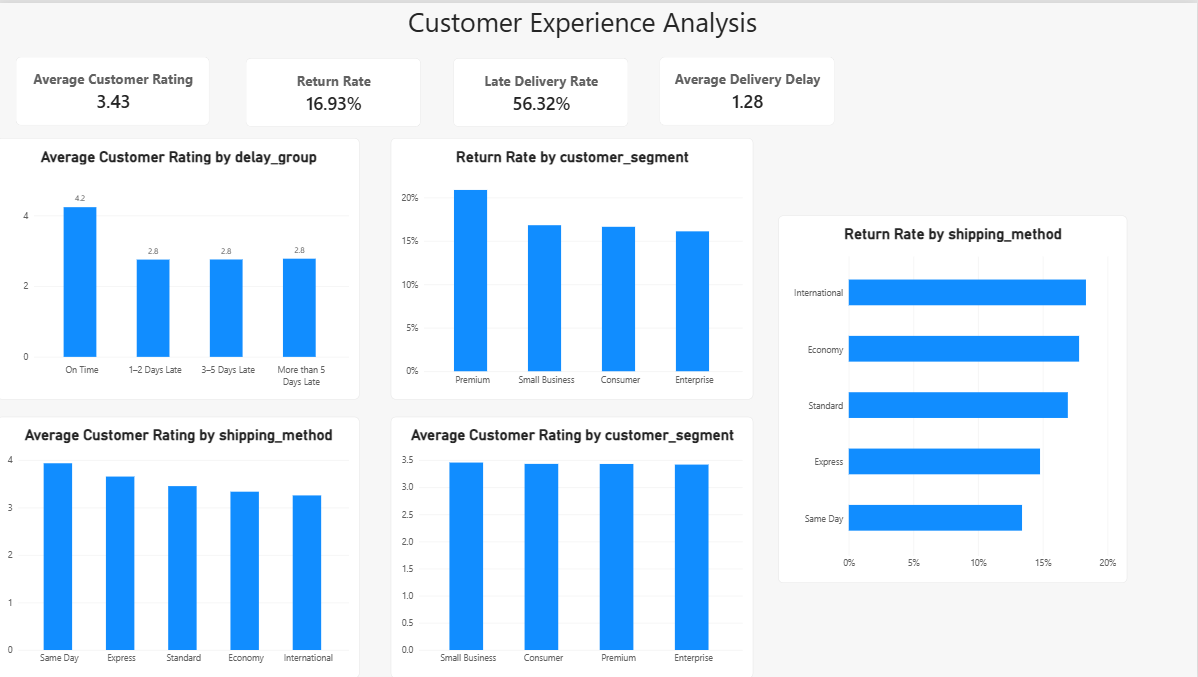

Layout of this report page (visuals, bound fields, positions):
{"tool":"powerbi","page":{"name":"Customer Experience Analysis","canvas":[1920,1080],"ordinal":2},"visuals":[{"type":"cardVisual","fields":{"Data":["ecommerce_delivery_powerbi.Average Customer Rating"]},"box":[30,86,310,110],"z":0},{"type":"cardVisual","fields":{"Data":["ecommerce_delivery_powerbi.Return Rate"]},"box":[398,88,280,110],"z":1},{"type":"cardVisual","fields":{"Data":["ecommerce_delivery_powerbi.Late Delivery Rate"]},"box":[730,88,280,110],"z":2},{"type":"cardVisual","fields":{"Data":["ecommerce_delivery_powerbi.Average Delivery Delay"]},"box":[1060,86,280,110],"z":3},{"type":"clusteredColumnChart","fields":{"Category":["ecommerce_delivery_powerbi.delay_group"],"Y":["ecommerce_delivery_powerbi.Average Customer Rating"]},"box":[0,216,580,418],"z":4},{"type":"clusteredColumnChart","fields":{"Category":["ecommerce_delivery_powerbi.shipping_method"],"Y":["ecommerce_delivery_powerbi.Average Customer Rating"]},"box":[0,662,580,418],"z":5},{"type":"clusteredColumnChart","fields":{"Category":["ecommerce_delivery_powerbi.customer_segment"],"Y":["ecommerce_delivery_powerbi.Average Customer Rating"]},"box":[630,662,580,418],"z":6},{"type":"clusteredColumnChart","fields":{"Category":["ecommerce_delivery_powerbi.customer_segment"],"Y":["ecommerce_delivery_powerbi.Return Rate"]},"box":[630,216,580,418],"z":7},{"type":"clusteredBarChart","fields":{"Category":["ecommerce_delivery_powerbi.shipping_method"],"Y":["ecommerce_delivery_powerbi.Return Rate"]},"box":[1250,340,558,588],"z":8},{"type":"textbox","box":[0,0,1874,72],"z":9}]}

Visuals, with their boxes in screenshot pixels (x1, y1, x2, y2), scaled from the page's 1920x1080 canvas onto the 1198x677 screenshot:
cardVisual - ecommerce_delivery_powerbi.Average Customer Rating: region(19, 54, 212, 123)
cardVisual - ecommerce_delivery_powerbi.Return Rate: region(248, 55, 423, 124)
cardVisual - ecommerce_delivery_powerbi.Late Delivery Rate: region(455, 55, 630, 124)
cardVisual - ecommerce_delivery_powerbi.Average Delivery Delay: region(661, 54, 836, 123)
clusteredColumnChart - ecommerce_delivery_powerbi.delay_group x ecommerce_delivery_powerbi.Average Customer Rating: region(0, 135, 362, 397)
clusteredColumnChart - ecommerce_delivery_powerbi.shipping_method x ecommerce_delivery_powerbi.Average Customer Rating: region(0, 415, 362, 676)
clusteredColumnChart - ecommerce_delivery_powerbi.customer_segment x ecommerce_delivery_powerbi.Average Customer Rating: region(393, 415, 755, 676)
clusteredColumnChart - ecommerce_delivery_powerbi.customer_segment x ecommerce_delivery_powerbi.Return Rate: region(393, 135, 755, 397)
clusteredBarChart - ecommerce_delivery_powerbi.shipping_method x ecommerce_delivery_powerbi.Return Rate: region(780, 213, 1128, 582)
textbox: region(0, 0, 1169, 45)
